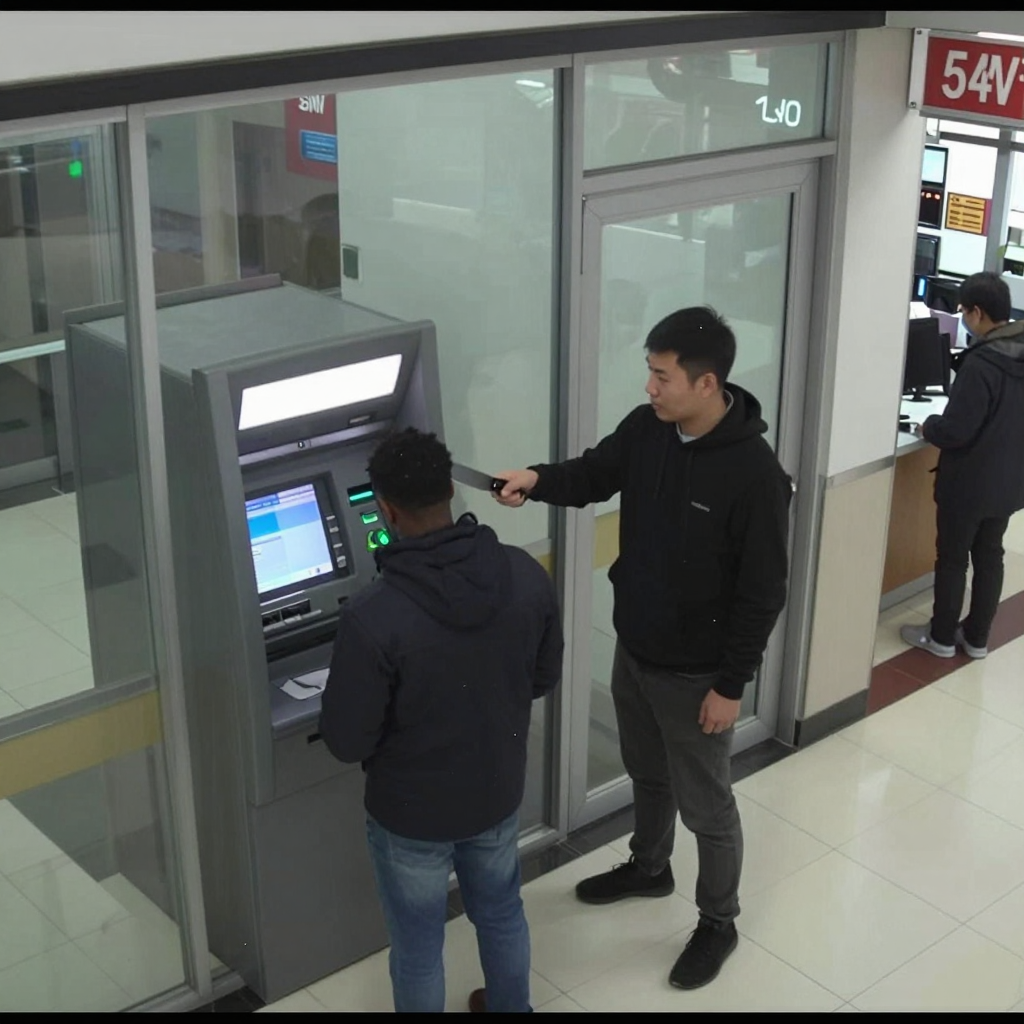Assault: (450, 460, 530, 503)
Robbery: (489, 306, 794, 991), (318, 425, 565, 1013)
